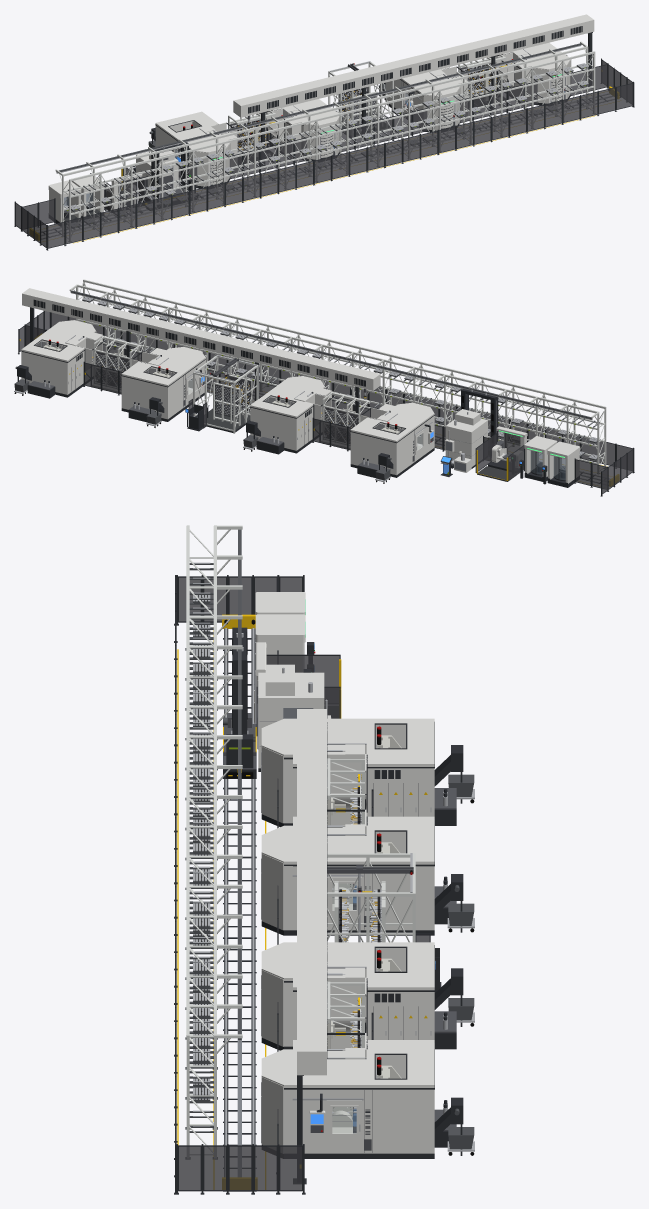
The model's file is mcm_fms_lp90_line.glb.
3 views of the same model, one above another, from view 1: azimuth 30°, elevation 25°; view 2: azimuth 150°, elevation 25°; view 3: azimuth 270°, elevation 25° (orthographic). The views are drawn at different scales.
Parts seen in each view (by area): view 1: RACK_rack_frame__truss_white, FB_fence__mesh, ST_st_beam__evo_white, FB_fence__anthracite, RACK_rack_frame__steel_dark, ST_st_beam__anthracite, MT1_enclosure__evo_white, MT3_enclosure__evo_white, RACK_rack_frame__steel, FG6_fence__mesh, FG5_fence__mesh, FG7_fence__mesh (+19 smaller); view 2: RACK_rack_frame__truss_white, ST_st_beam__evo_white, FB_fence__mesh, MT1_enclosure__evo_white, MT3_enclosure__evo_white, MT2_enclosure__evo_white, MT4_enclosure__evo_white, RACK_rack_frame__steel_dark, CTR_ctr_frame__truss_white, ST_st_beam__anthracite, WASH_wash_cabinet__evo_white, RACK_rack_frame__steel (+35 smaller); view 3: MT4_enclosure__evo_white, RACK_rack_frame__truss_white, ST_st_beam__evo_white, MT2_enclosure__evo_white, RACK_rack_frame__steel_dark, MT1_enclosure__evo_white, MT3_enclosure__evo_white, FE47_fence__mesh, trk_track__steel_dark, WASH_wash_cabinet__evo_white, MT2_apc_housing__evo_white, MT1_apc_housing__evo_white (+28 smaller).
Part boxes in pixels (<box>): RACK_rack_frame__truss_white: <box>55,41,595,241</box>; FB_fence__mesh: <box>48,83,632,247</box>; ST_st_beam__evo_white: <box>233,14,594,117</box>; FB_fence__anthracite: <box>47,82,634,250</box>; RACK_rack_frame__steel_dark: <box>56,43,589,227</box>; ST_st_beam__anthracite: <box>248,26,592,165</box>; MT1_enclosure__evo_white: <box>155,111,237,174</box>; MT3_enclosure__evo_white: <box>385,67,467,125</box>; RACK_rack_frame__steel: <box>56,45,587,218</box>; FG6_fence__mesh: <box>341,109,427,151</box>; FG5_fence__mesh: <box>229,138,307,178</box>; FG7_fence__mesh: <box>459,82,537,122</box>; RACK_rack_frame__truss_white: <box>69,279,606,473</box>; ST_st_beam__evo_white: <box>22,288,380,390</box>; FB_fence__mesh: <box>51,312,632,469</box>; MT1_enclosure__evo_white: <box>350,404,432,475</box>; MT3_enclosure__evo_white: <box>121,348,203,419</box>; MT2_enclosure__evo_white: <box>250,379,331,450</box>; MT4_enclosure__evo_white: <box>21,323,102,394</box>; RACK_rack_frame__steel_dark: <box>70,290,600,461</box>; CTR_ctr_frame__truss_white: <box>193,355,258,433</box>; ST_st_beam__anthracite: <box>30,299,365,425</box>; WASH_wash_cabinet__evo_white: <box>445,409,487,472</box>; RACK_rack_frame__steel: <box>70,292,596,460</box>; MT4_enclosure__evo_white: <box>293,1040,434,1153</box>; RACK_rack_frame__truss_white: <box>186,525,242,1157</box>; ST_st_beam__evo_white: <box>297,709,326,1075</box>; MT2_enclosure__evo_white: <box>293,816,434,930</box>; RACK_rack_frame__steel_dark: <box>185,529,241,1158</box>; MT1_enclosure__evo_white: <box>293,718,434,825</box>; MT3_enclosure__evo_white: <box>293,942,434,1049</box>; FE47_fence__mesh: <box>179,1146,276,1190</box>; trk_track__steel_dark: <box>224,628,255,1176</box>; WASH_wash_cabinet__evo_white: <box>258,664,330,768</box>; MT2_apc_housing__evo_white: <box>261,825,292,930</box>; MT1_apc_housing__evo_white: <box>261,718,292,823</box>.
Bounding box in the file's own units: 49.56 × 5.4 × 11.05.
